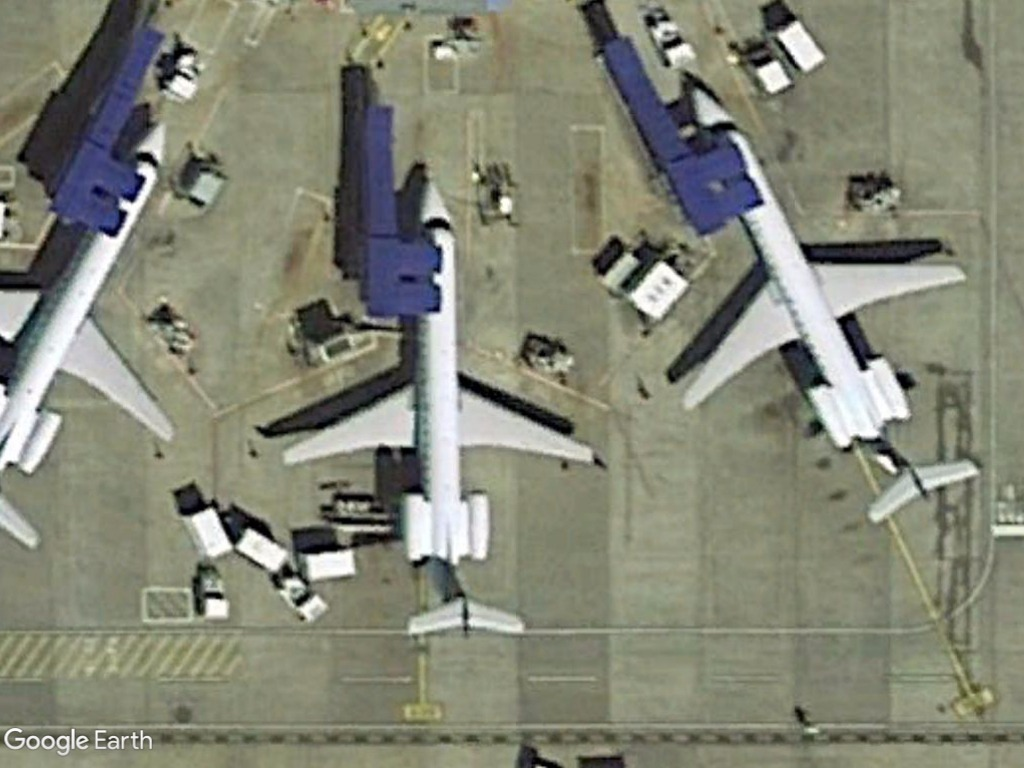chartered: (271, 174, 607, 652), (661, 79, 982, 530)
